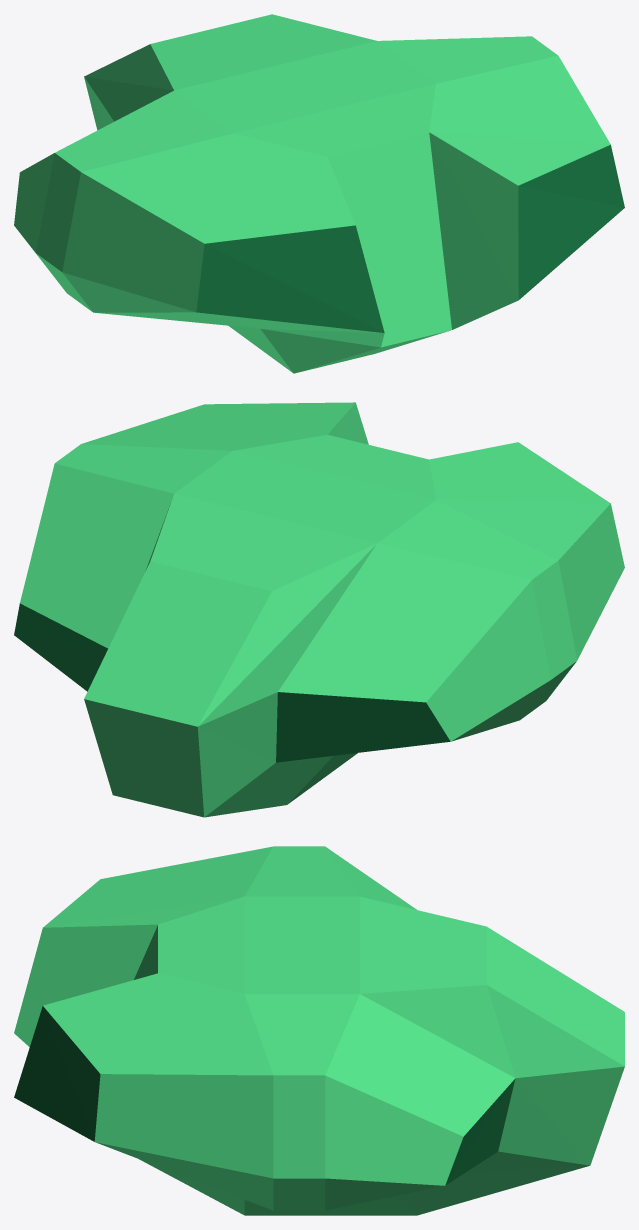
File: body.FBX
3 views of the same model, one above another, from view 1: azimuth 30°, elevation 25°; view 2: azimuth 150°, elevation 25°; view 3: azimuth 270°, elevation 25° (orthographic).
Parts seen in each view (by area): view 1: VIFS001, VIFS002; view 2: VIFS001, VIFS002; view 3: VIFS001, VIFS002.
Boxes of the visible parts, x1,y1,x2,y2 form: VIFS001: (14,14,610,373); VIFS002: (196,144,624,332); VIFS001: (20,402,624,817); VIFS002: (14,603,450,762); VIFS001: (14,846,624,1215); VIFS002: (14,1006,515,1185).
Bounding box in the file's own units: 1.01 × 0.48 × 1.06.
